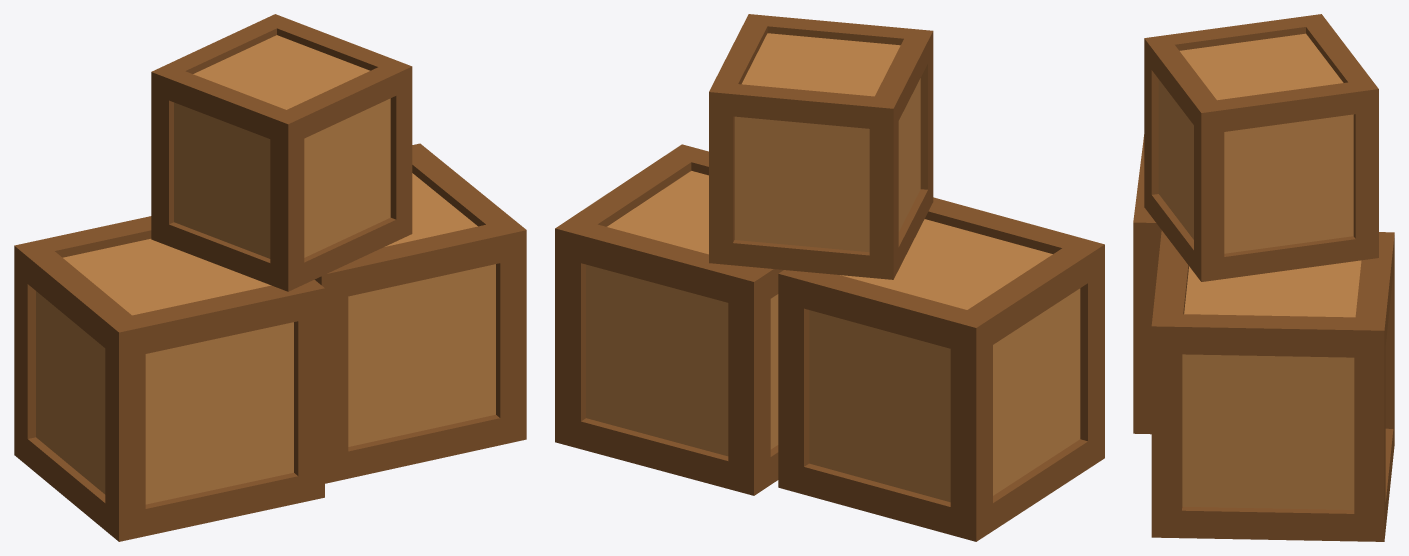
File: crate_stack.fbx
3 renders of one model, left to right at view 1: azimuth 30°, elevation 25°; view 2: azimuth 150°, elevation 25°; view 3: azimuth 270°, elevation 25°, orthographic. The views are drawn at different scales.
Parts seen in each view (by area): view 1: crate_stack; view 2: crate_stack; view 3: crate_stack.
Boxes of the visible parts, bbox=[...] form: crate_stack: bbox=[14, 14, 526, 541]; crate_stack: bbox=[555, 14, 1104, 541]; crate_stack: bbox=[1133, 14, 1394, 541].
Bounding box in the file's own units: 839 × 720 × 449.
1 material, 1 textured.
